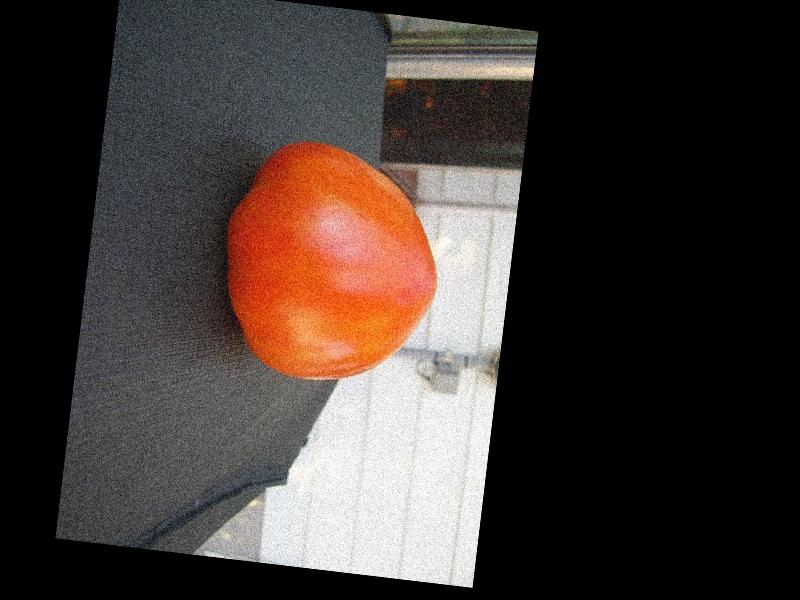Tomato: (212, 133, 453, 393)
